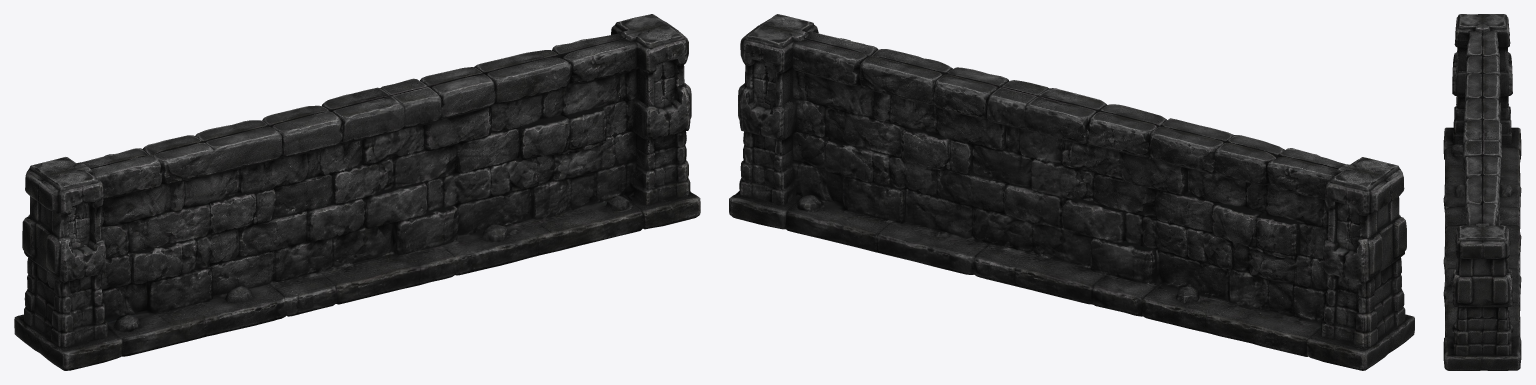
File: fort_m_volcano_wall.glb
The picture shows the model from 3 angles, left to right: view 1: azimuth 30°, elevation 25°; view 2: azimuth 150°, elevation 25°; view 3: azimuth 270°, elevation 25°; orthographic projection. The views are drawn at different scales.
Visible parts, largest first — view 1: fort_m_volcano_wall; view 2: fort_m_volcano_wall; view 3: fort_m_volcano_wall.
Boxes of the visible parts, x1,y1,x2,y2 form: fort_m_volcano_wall: (14, 14, 700, 370); fort_m_volcano_wall: (729, 14, 1414, 370); fort_m_volcano_wall: (1443, 14, 1521, 370).
Size of the model in its own units: 1.9 by 0.5008 by 0.2711.
1 material, 1 textured.
